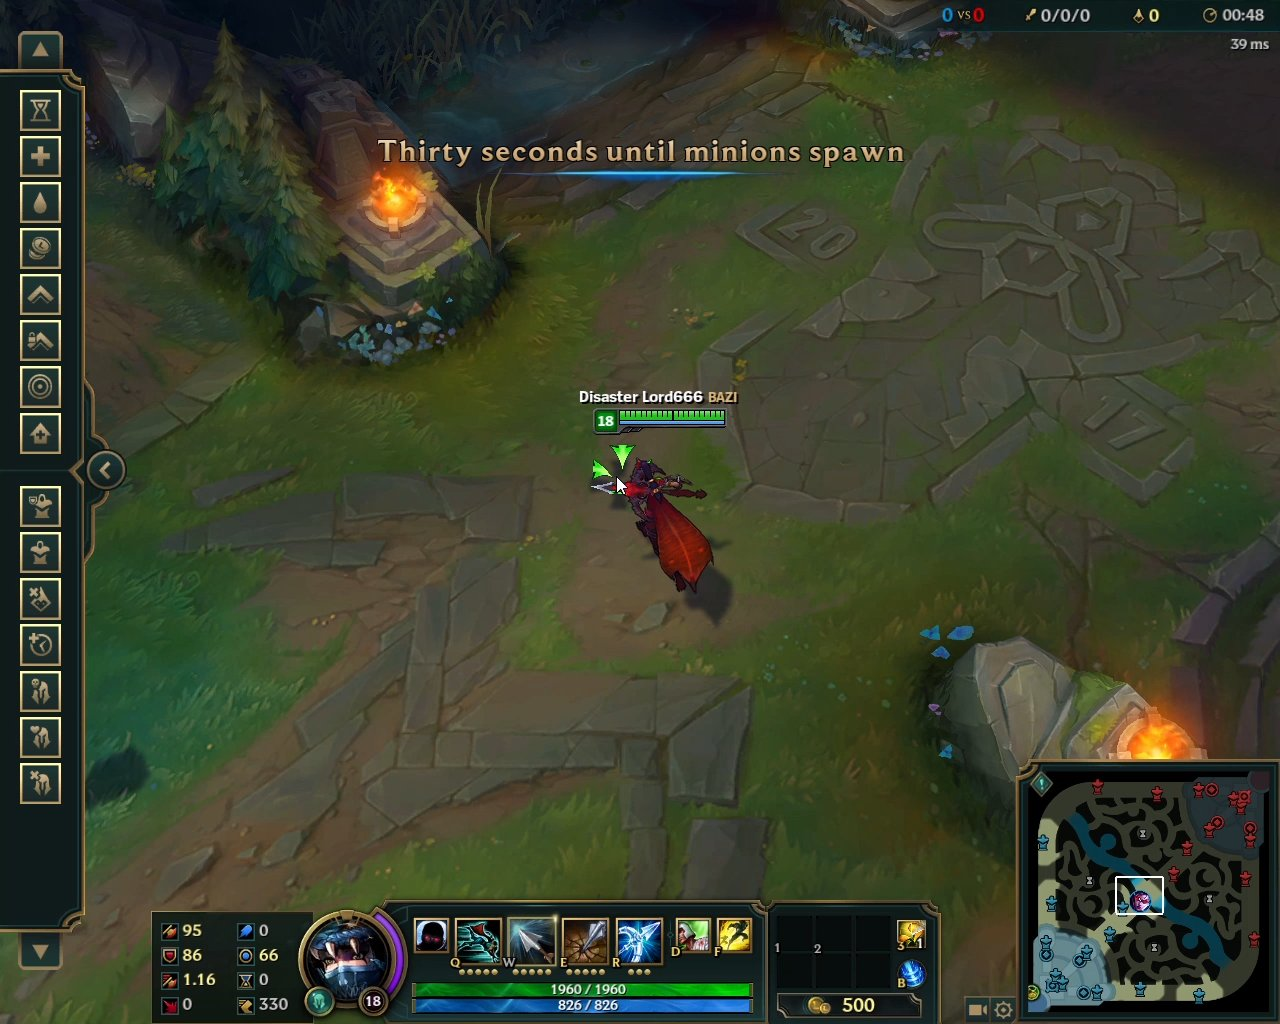Vayne: (587, 457, 726, 602)
